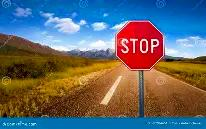Stop: (116, 21, 163, 70)
